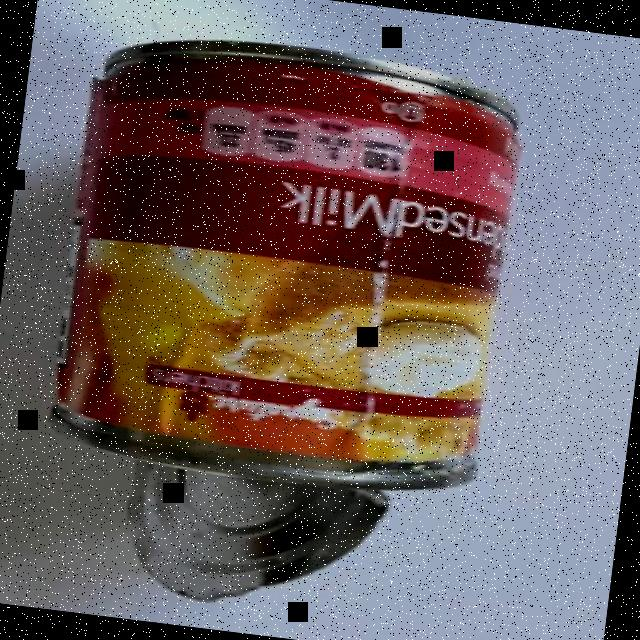can: (19, 10, 534, 638)
